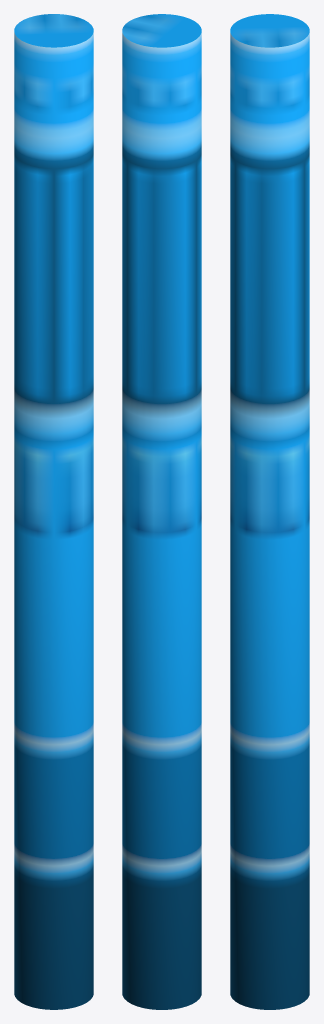
File: flag1b.obj
3 renders of one model, left to right at view 1: azimuth 90°, elevation 25°; view 2: azimuth 150°, elevation 25°; view 3: azimuth 270°, elevation 25°, orthographic.
Parts seen in each view (by area): view 1: ColobotMesh_1_ColobotMesh_; view 2: ColobotMesh_1_ColobotMesh_; view 3: ColobotMesh_1_ColobotMesh_.
Boxes of the visible parts, box(x1,y1,x2,y2) form: ColobotMesh_1_ColobotMesh_: box(14, 14, 93, 1009); ColobotMesh_1_ColobotMesh_: box(122, 14, 201, 1009); ColobotMesh_1_ColobotMesh_: box(230, 14, 309, 1009).
Bounding box in the file's own units: 0.5986 × 7.99 × 0.5993.
